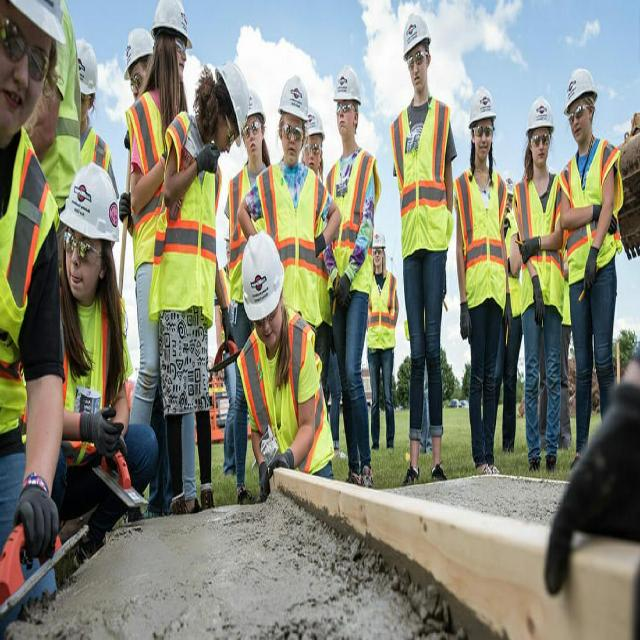Reflective-Jacket: (0, 131, 52, 443), (146, 105, 218, 328), (237, 323, 333, 475), (60, 286, 132, 466), (258, 163, 330, 323), (392, 94, 455, 258), (564, 138, 622, 280), (455, 168, 509, 310), (329, 146, 377, 288), (512, 173, 567, 291), (365, 270, 398, 350)
Safety-Helmet: (60, 159, 120, 242), (240, 232, 284, 320), (0, 1, 66, 46), (215, 57, 250, 134), (562, 62, 602, 114), (149, 0, 195, 43), (121, 22, 156, 76), (401, 8, 434, 62), (277, 70, 311, 122), (76, 32, 100, 98), (466, 81, 499, 128), (331, 61, 364, 107), (524, 92, 557, 136), (244, 83, 267, 123), (372, 226, 387, 250)
